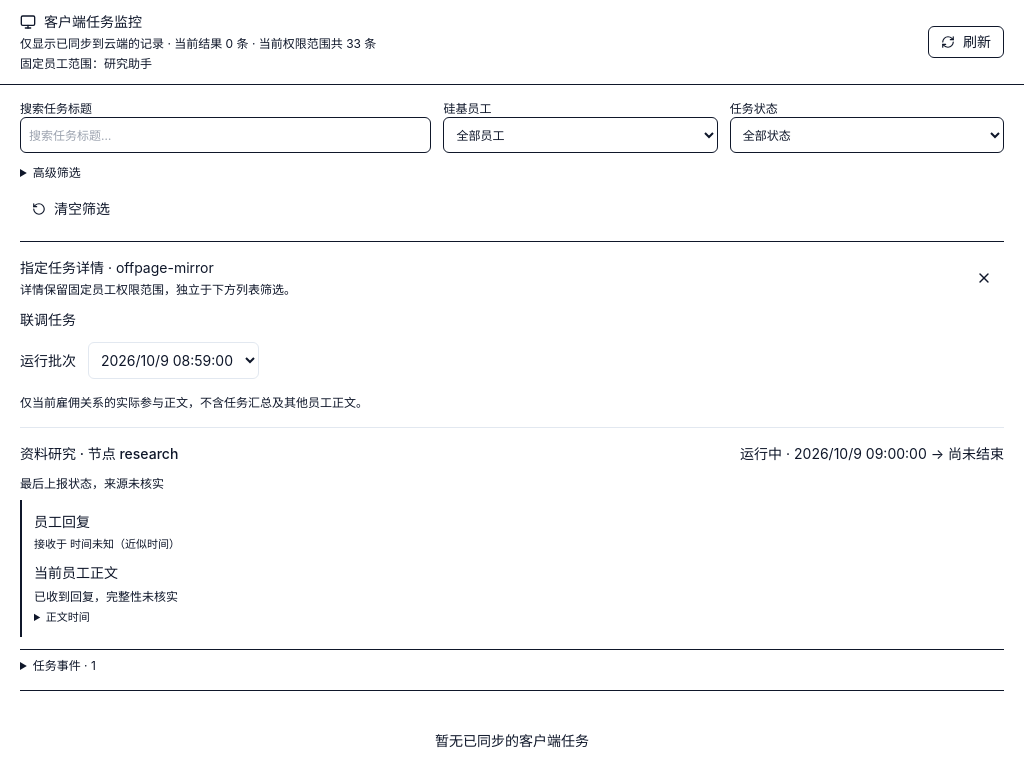
it: client monitor › opens authorized deep-link detail independently of an empty list
Check: the element "指定任务详情" is shown, box [20,242,1004,691]
Click the button named "关闭指定任务详情".
click(984, 278)  # box [964,262,1004,294]
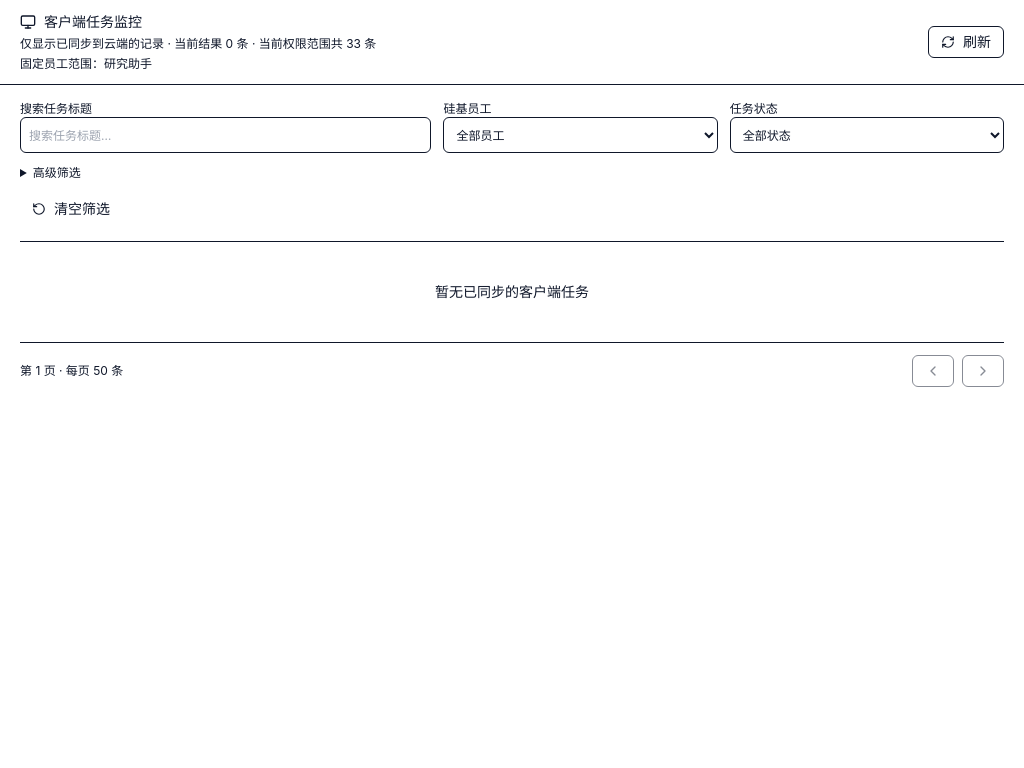
Check: the heading "指定任务详情" is gone
